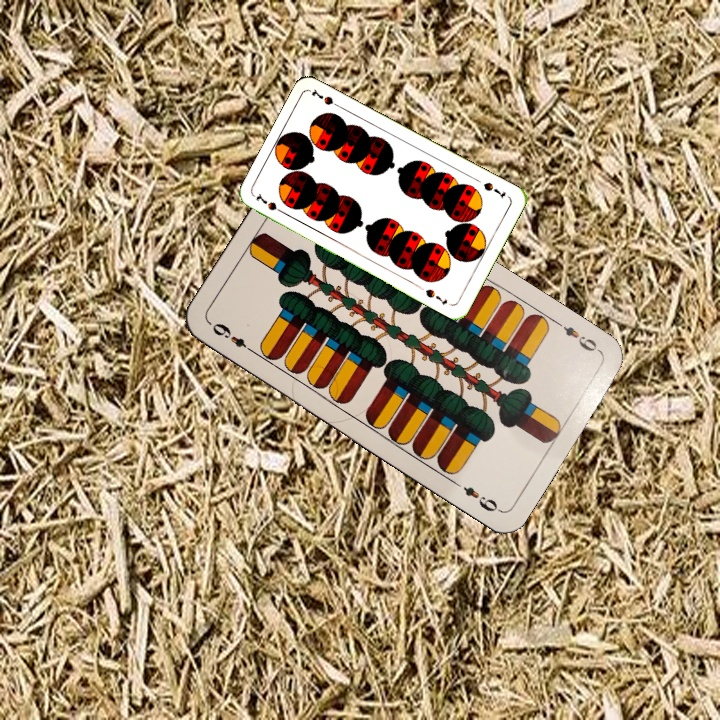E9: (551, 317, 603, 355), (208, 318, 258, 357)
S7: (252, 189, 289, 217), (479, 178, 508, 202)
